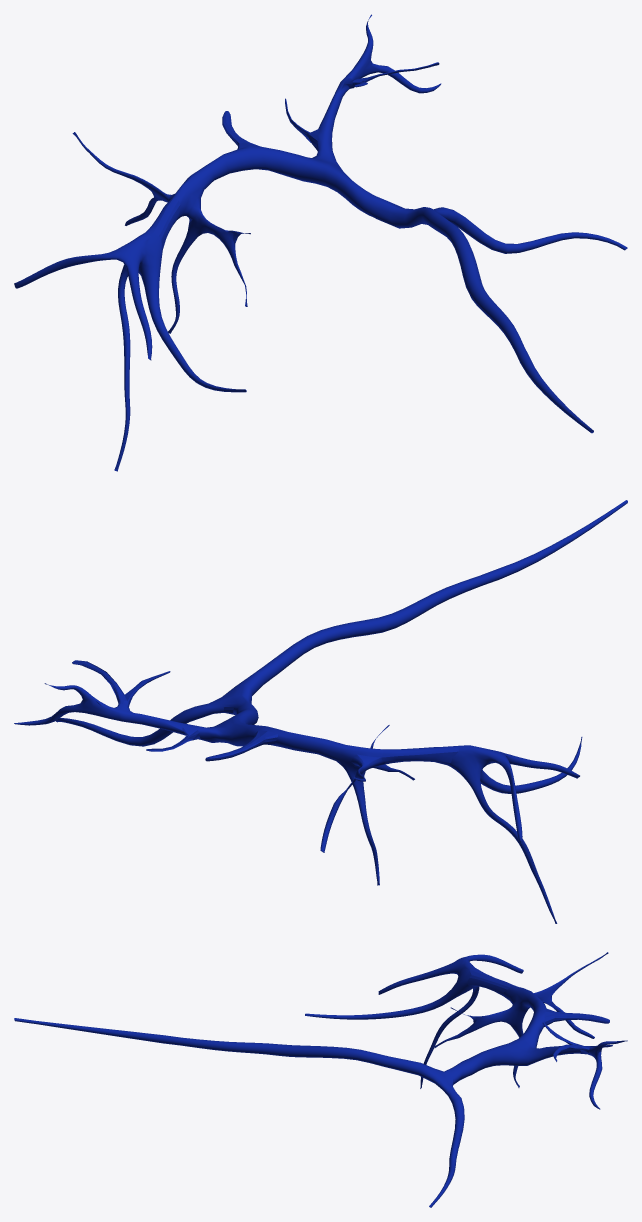
File: Portal_Vein_Inner.fbx
The picture shows the model from 3 angles, top to bottom: view 1: azimuth 30°, elevation 25°; view 2: azimuth 150°, elevation 25°; view 3: azimuth 270°, elevation 25°; orthographic projection. The views are drawn at different scales.
Parts seen in each view (by area): view 1: Portal_Vein_inner; view 2: Portal_Vein_inner; view 3: Portal_Vein_inner.
Part boxes in pixels (x1,y1,x2,y2): Portal_Vein_inner: [14, 14, 627, 471]; Portal_Vein_inner: [14, 500, 627, 923]; Portal_Vein_inner: [14, 952, 627, 1207].
Size of the model in its own units: 192 by 86.26 by 251.
